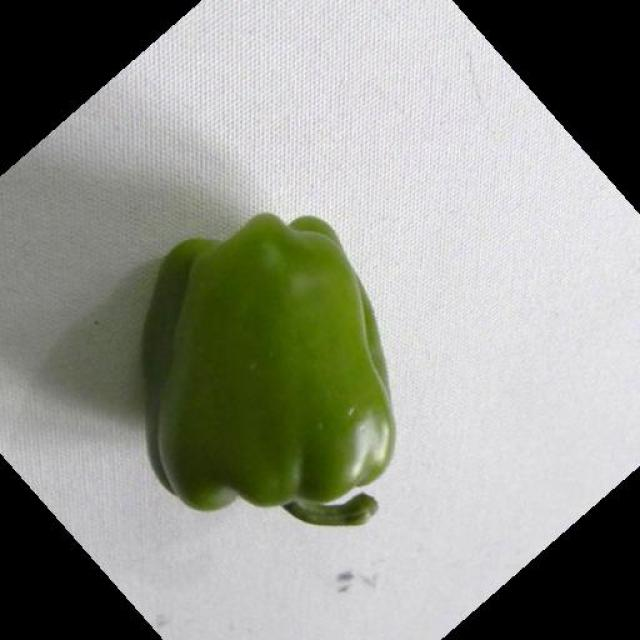Fresh_Capsicum: (157, 195, 445, 537)
